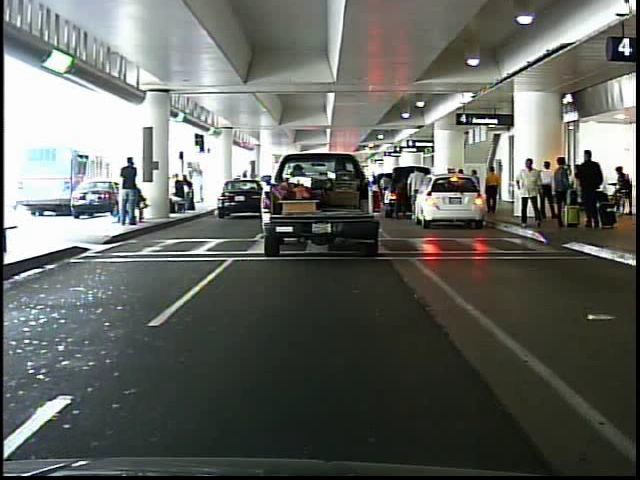person: (512, 155, 545, 236), (578, 145, 608, 233), (121, 158, 144, 230), (552, 153, 573, 228), (407, 163, 432, 223), (538, 161, 558, 223), (486, 163, 502, 217), (609, 159, 633, 194)
